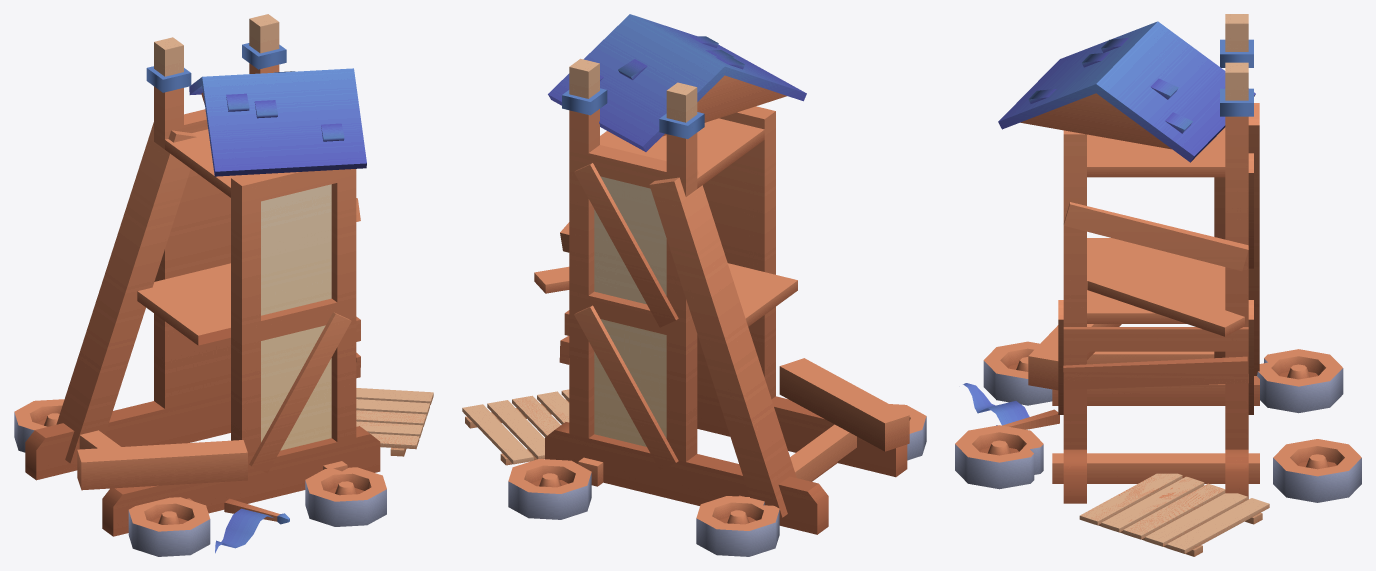
Rendered from siege-tower-demolished.glb.
The picture shows the model from 3 angles, left to right: view 1: azimuth 30°, elevation 25°; view 2: azimuth 150°, elevation 25°; view 3: azimuth 270°, elevation 25°; orthographic projection. The views are drawn at different scales.
Visible parts, largest first — view 1: siege-tower-demolished; view 2: siege-tower-demolished; view 3: siege-tower-demolished.
Part boxes in pixels (x1,y1,x2,y2): siege-tower-demolished: (14, 14, 433, 556); siege-tower-demolished: (462, 14, 926, 556); siege-tower-demolished: (955, 14, 1361, 556).
Size of the model in its own units: 2.17 by 2.1 by 1.85.
1 material, 1 textured.
